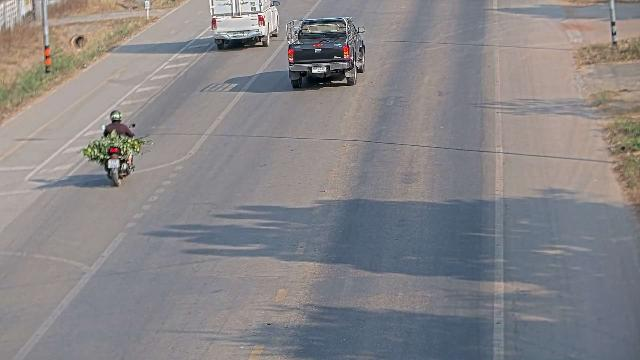motorcycle: (100, 111, 138, 187)
pickup-truck: (285, 16, 366, 88), (206, 0, 282, 50)
